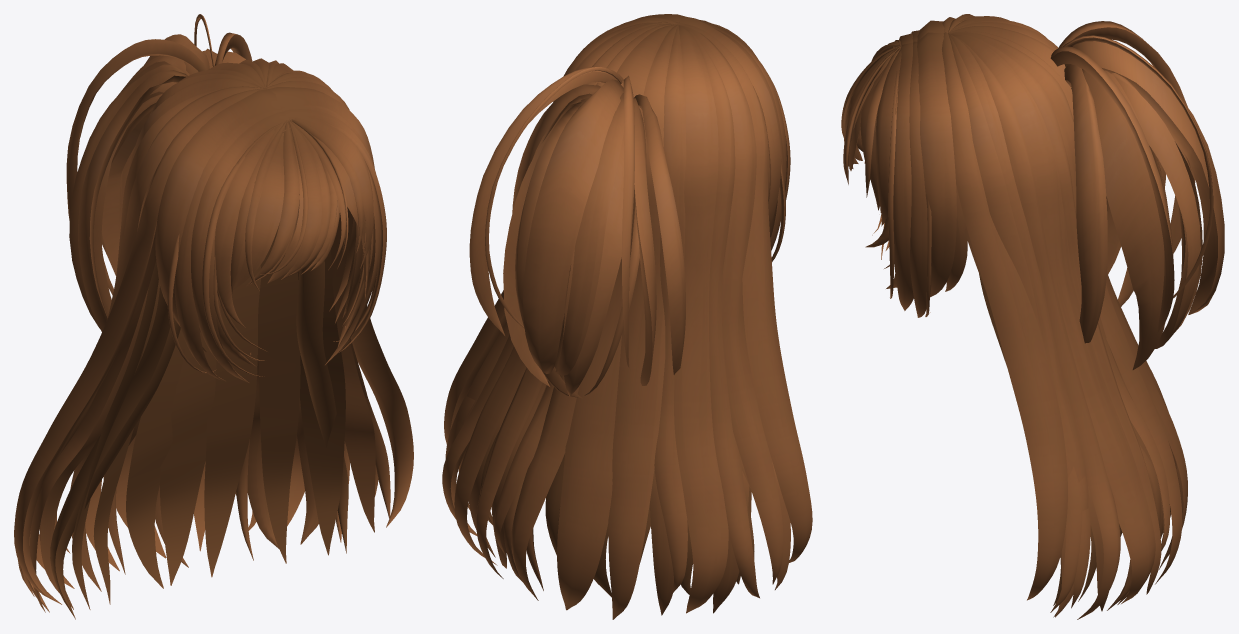
Rendered from vroid_hair_c3v2.glb.
3 views of the same model, side by side, from view 1: azimuth 30°, elevation 25°; view 2: azimuth 150°, elevation 25°; view 3: azimuth 270°, elevation 25° (orthographic). The views are drawn at different scales.
Parts seen in each view (by area): view 1: hair; view 2: hair; view 3: hair.
Boxes of the visible parts, <box> form: hair: <box>14,14,413,619</box>; hair: <box>442,14,812,619</box>; hair: <box>841,14,1224,619</box>.
Bounding box in the file's own units: 0.4071 × 0.5605 × 0.3586.
Materials: 1 (1 with a texture image).
